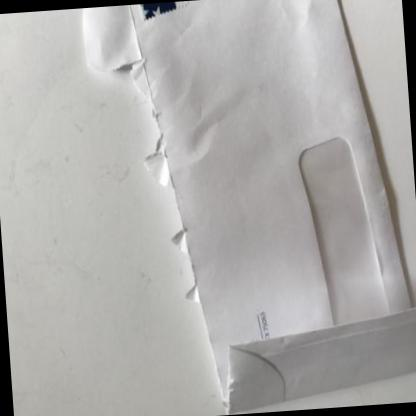Paper: (132, 0, 416, 412)
